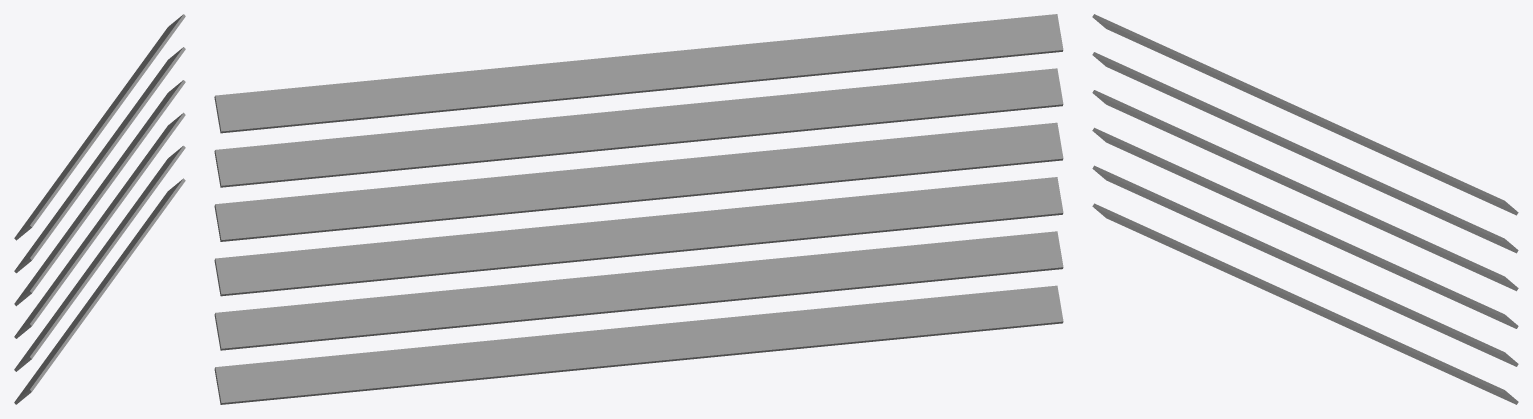
The model's file is Blinds B - 2.fbx.
3 views of the same model, side by side, from view 1: azimuth 30°, elevation 25°; view 2: azimuth 150°, elevation 25°; view 3: azimuth 270°, elevation 25° (orthographic). The views are drawn at different scales.
Parts seen in each view (by area): view 1: Blinds B - 2; view 2: Blinds B - 2; view 3: Blinds B - 2.
Part boxes in pixels (bbox=[...]): Blinds B - 2: bbox=[14, 14, 185, 404]; Blinds B - 2: bbox=[214, 14, 1063, 404]; Blinds B - 2: bbox=[1092, 14, 1518, 404].
Bounding box in the file's own units: 245 × 229 × 124.
